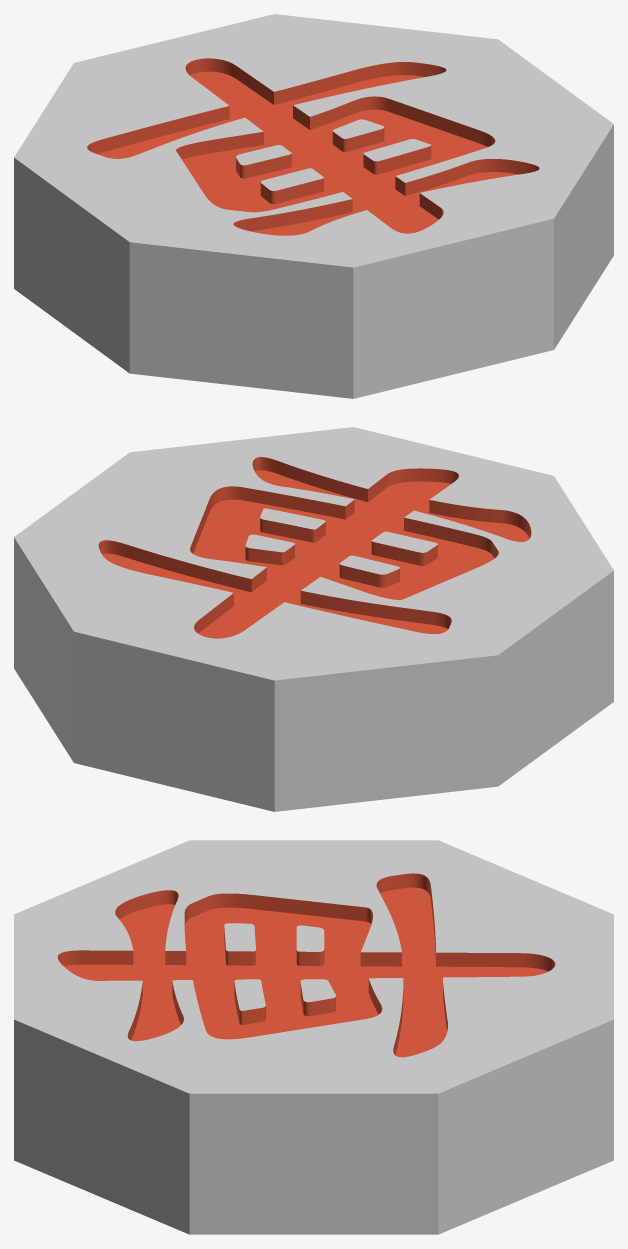
The picture shows the model from 3 angles, top to bottom: view 1: azimuth 30°, elevation 25°; view 2: azimuth 150°, elevation 25°; view 3: azimuth 270°, elevation 25°; orthographic projection. The views are drawn at different scales.
Visible parts, largest first — view 1: 한_차; view 2: 한_차; view 3: 한_차.
Boxes of the visible parts, x1,y1,x2,y2 form: 한_차: [14, 14, 613, 398]; 한_차: [14, 427, 613, 811]; 한_차: [14, 840, 613, 1234].
Size of the model in its own units: 2700 by 700 by 2700.
